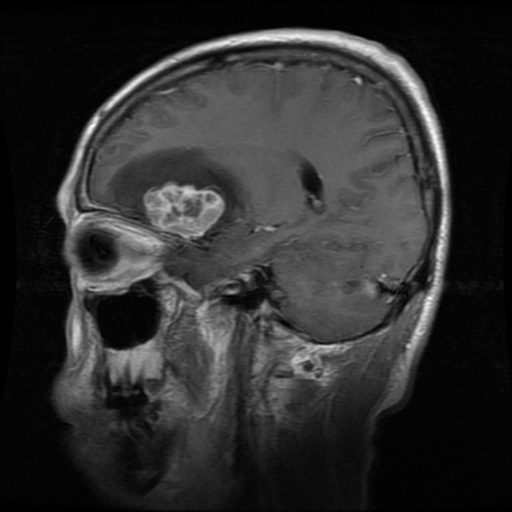meningioma: (142, 180, 225, 239)
